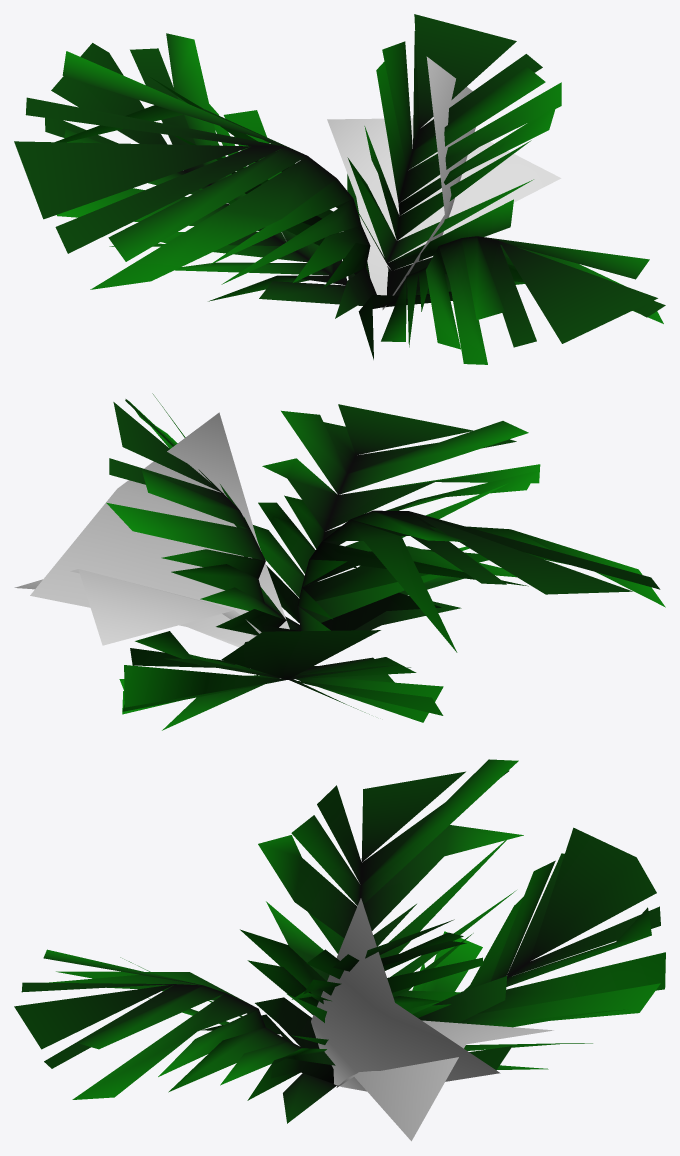
Rendered from PalmCover02_afsTREE_xlprl15_xmw05_xlb05_xlod02.fbx.
3 renders of one model, top to bottom at view 1: azimuth 30°, elevation 25°; view 2: azimuth 150°, elevation 25°; view 3: azimuth 270°, elevation 25°, orthographic. The views are drawn at different scales.
Visible parts, largest first — view 1: trunk_PalmCover02_xw04_xt03_xlp05, leaf_PalmCover02_xw03_xt02_xlp02_xp02, leaf_PalmCover02_xw02_xt03_xlp01_xp09, leaf_PalmCover02_xw01_xt01_xlp00_xp05, leaf_PalmCover02_xw01_xt04_xlp01_xp07, leaf_PalmCover02_xw02_xt03_xlp01_xp10; view 2: leaf_PalmCover02_xw02_xt03_xlp01_xp09, trunk_PalmCover02_xw04_xt03_xlp05, leaf_PalmCover02_xw01_xt01_xlp00_xp05, leaf_PalmCover02_xw02_xt03_xlp01_xp10, leaf_PalmCover02_xw03_xt02_xlp02_xp02, leaf_PalmCover02_xw01_xt04_xlp01_xp07; view 3: trunk_PalmCover02_xw04_xt03_xlp05, leaf_PalmCover02_xw01_xt01_xlp00_xp05, leaf_PalmCover02_xw02_xt03_xlp01_xp09, leaf_PalmCover02_xw02_xt03_xlp01_xp10, leaf_PalmCover02_xw03_xt02_xlp02_xp02, leaf_PalmCover02_xw01_xt04_xlp01_xp07.
Part boxes in pixels (<box>): trunk_PalmCover02_xw04_xt03_xlp05: <box>14,51,376,318</box>; leaf_PalmCover02_xw03_xt02_xlp02_xp02: <box>347,14,561,295</box>; leaf_PalmCover02_xw02_xt03_xlp01_xp09: <box>358,236,665,364</box>; leaf_PalmCover02_xw01_xt01_xlp00_xp05: <box>45,33,364,305</box>; leaf_PalmCover02_xw01_xt04_xlp01_xp07: <box>327,118,561,307</box>; leaf_PalmCover02_xw02_xt03_xlp01_xp10: <box>382,56,475,309</box>; leaf_PalmCover02_xw02_xt03_xlp01_xp09: <box>253,404,540,630</box>; trunk_PalmCover02_xw04_xt03_xlp05: <box>256,510,665,676</box>; leaf_PalmCover02_xw01_xt01_xlp00_xp05: <box>119,630,443,730</box>; leaf_PalmCover02_xw02_xt03_xlp01_xp10: <box>30,412,289,647</box>; leaf_PalmCover02_xw03_xt02_xlp02_xp02: <box>106,393,286,667</box>; leaf_PalmCover02_xw01_xt04_xlp01_xp07: <box>14,569,261,645</box>; trunk_PalmCover02_xw04_xt03_xlp05: <box>240,759,523,1048</box>; leaf_PalmCover02_xw01_xt01_xlp00_xp05: <box>412,827,665,1070</box>; leaf_PalmCover02_xw02_xt03_xlp01_xp09: <box>14,949,336,1123</box>; leaf_PalmCover02_xw02_xt03_xlp01_xp10: <box>311,898,500,1091</box>; leaf_PalmCover02_xw03_xt02_xlp02_xp02: <box>271,919,482,1083</box>; leaf_PalmCover02_xw01_xt04_xlp01_xp07: <box>336,1020,553,1141</box>.
Size of what is drawn, in the model's own units: 2.05 by 2.26 by 0.8596.
